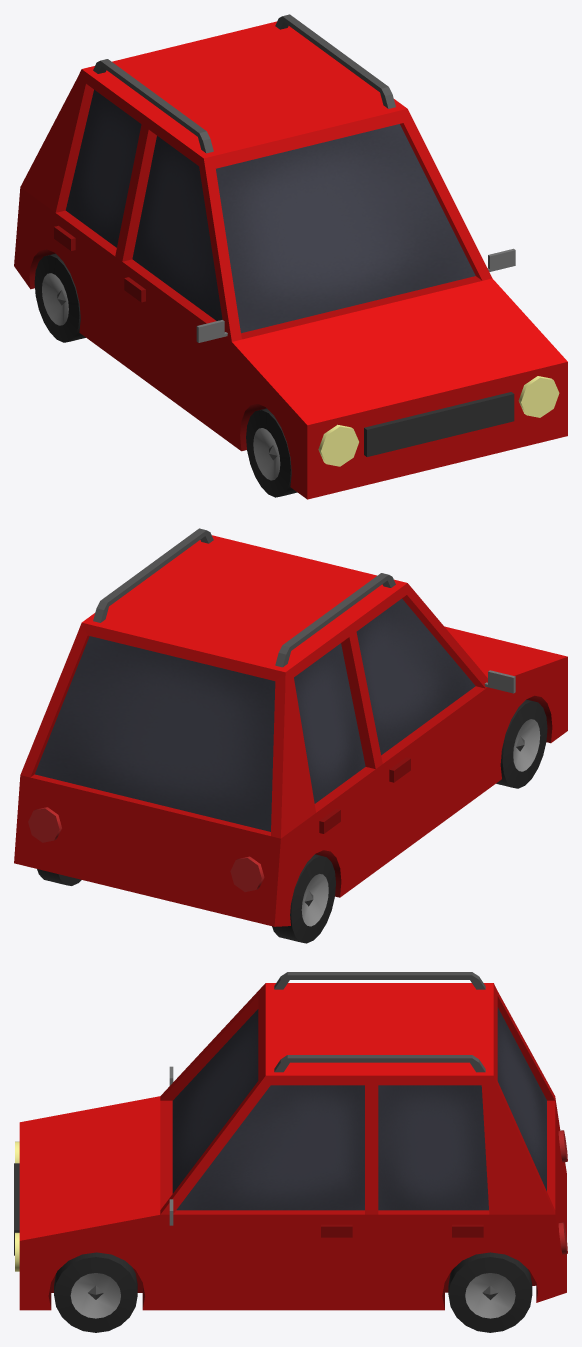
The model's file is Car_A2.fbx.
3 renders of one model, top to bottom at view 1: azimuth 30°, elevation 25°; view 2: azimuth 150°, elevation 25°; view 3: azimuth 270°, elevation 25°, orthographic. The views are drawn at different scales.
Parts seen in each view (by area): view 1: Car1_Body, Car1_RR, Car1_RF; view 2: Car1_Body, Car1_RR, Car1_RF; view 3: Car1_Body, Car1_LR, Car1_LF.
Part boxes in pixels (x1,y1,x2,y2): Car1_Body: [14, 14, 567, 499]; Car1_RR: [34, 253, 85, 342]; Car1_RF: [246, 408, 297, 497]; Car1_Body: [14, 528, 567, 926]; Car1_RR: [272, 854, 335, 943]; Car1_RF: [496, 699, 547, 788]; Car1_Body: [14, 972, 567, 1310]; Car1_LR: [448, 1252, 532, 1332]; Car1_LF: [54, 1252, 137, 1332].
Bounding box in the file's own units: 191 × 160 × 310.
Materials: 1 (1 with a texture image).
